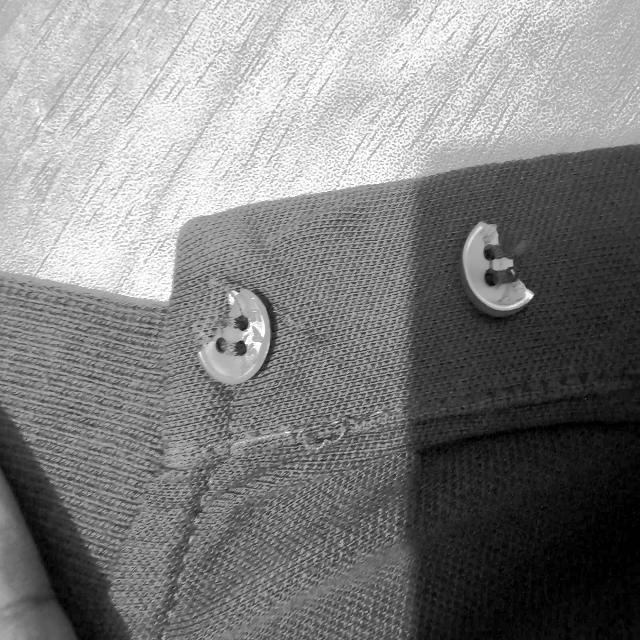Broken_button: (189, 276, 274, 404), (456, 205, 538, 326)
